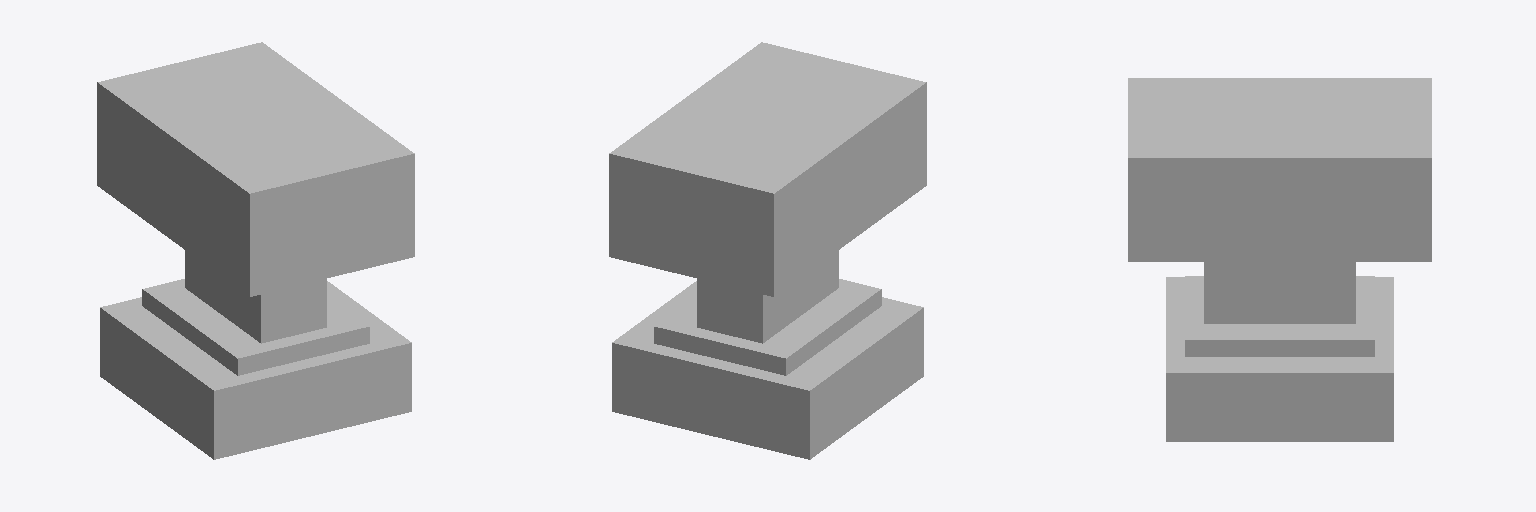
File: anvil.obj
The picture shows the model from 3 angles: view 1: azimuth 30°, elevation 25°; view 2: azimuth 150°, elevation 25°; view 3: azimuth 270°, elevation 25°; orthographic projection.
Parts seen in each view (by area): view 1: object 1; view 2: object 1; view 3: object 1.
Boxes of the visible parts, x1,y1,x2,y2 form: object 1: [97, 42, 414, 459]; object 1: [609, 42, 926, 459]; object 1: [1128, 78, 1431, 441].
Size of the model in its own units: 2.4 by 3.2 by 3.2.